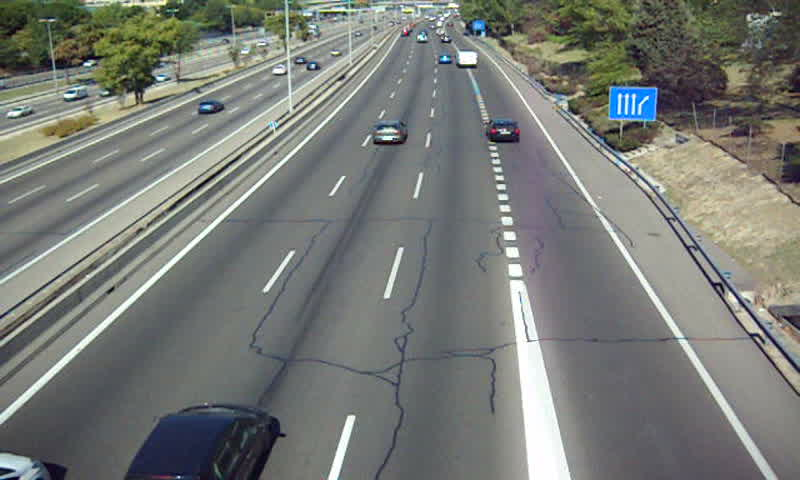car: (126, 407, 277, 480), (372, 119, 407, 145), (484, 119, 521, 142), (436, 52, 454, 65)
van: (454, 52, 478, 68)
